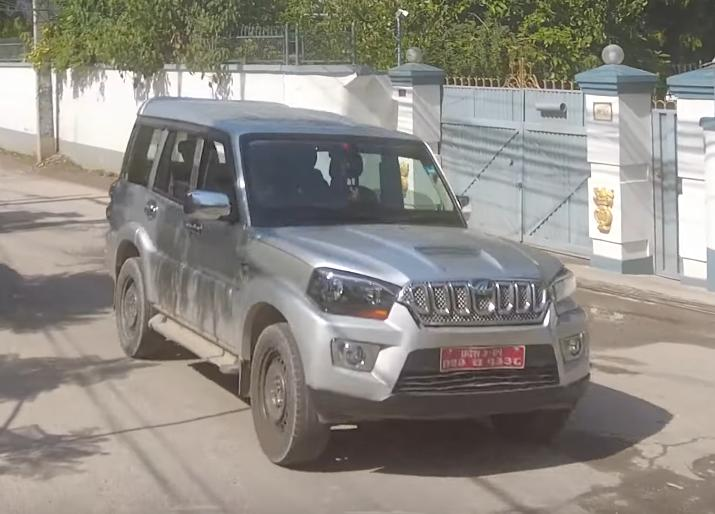SUV: (93, 91, 622, 458)
